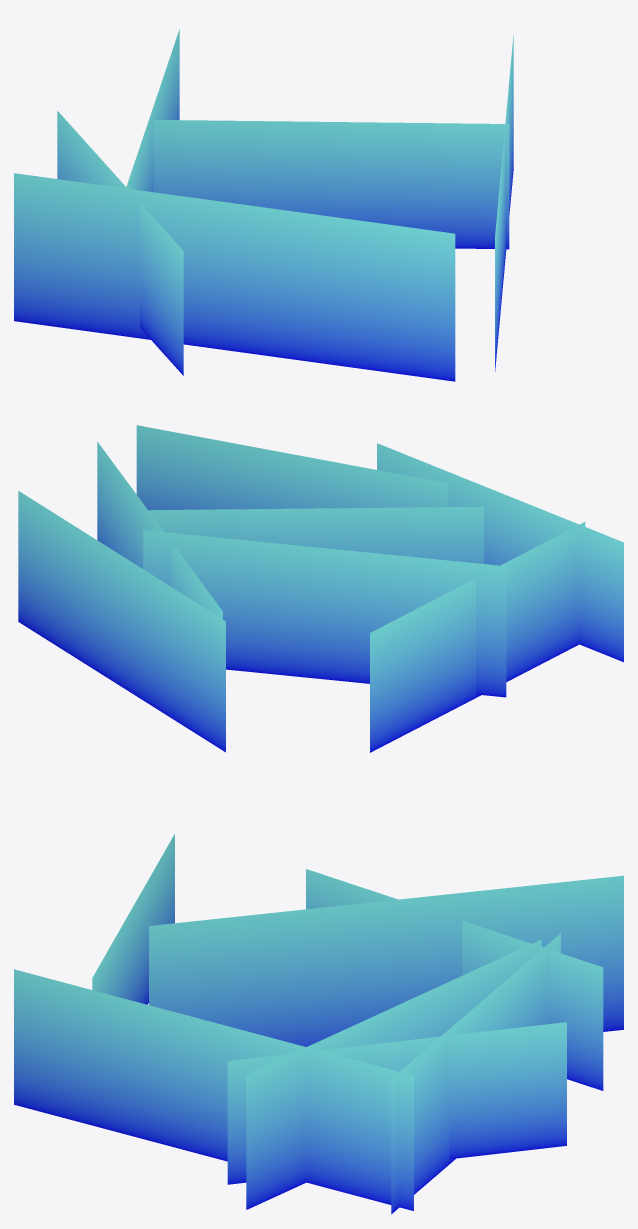
The model's file is SM_Env_Grass_Med_Clump_03.gltf.
3 renders of one model, top to bottom at view 1: azimuth 30°, elevation 25°; view 2: azimuth 150°, elevation 25°; view 3: azimuth 270°, elevation 25°, orthographic. The views are drawn at different scales.
Visible parts, largest first — view 1: SM_Env_Grass_Med_Clump_03_LOD0; view 2: SM_Env_Grass_Med_Clump_03_LOD0; view 3: SM_Env_Grass_Med_Clump_03_LOD0.
Boxes of the visible parts, x1,y1,x2,y2 form: SM_Env_Grass_Med_Clump_03_LOD0: [14, 29, 513, 381]; SM_Env_Grass_Med_Clump_03_LOD0: [18, 425, 623, 752]; SM_Env_Grass_Med_Clump_03_LOD0: [14, 834, 623, 1214].
Size of the model in its own units: 1.72 by 0.5102 by 1.73.
